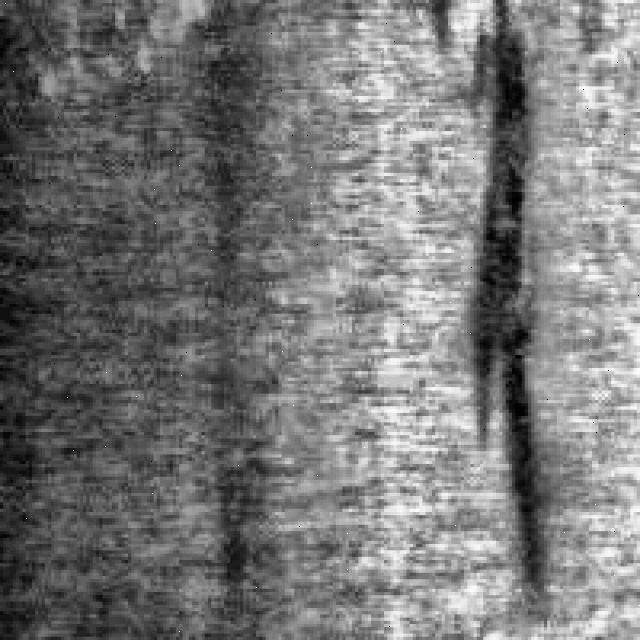Patches: (460, 0, 570, 570)
